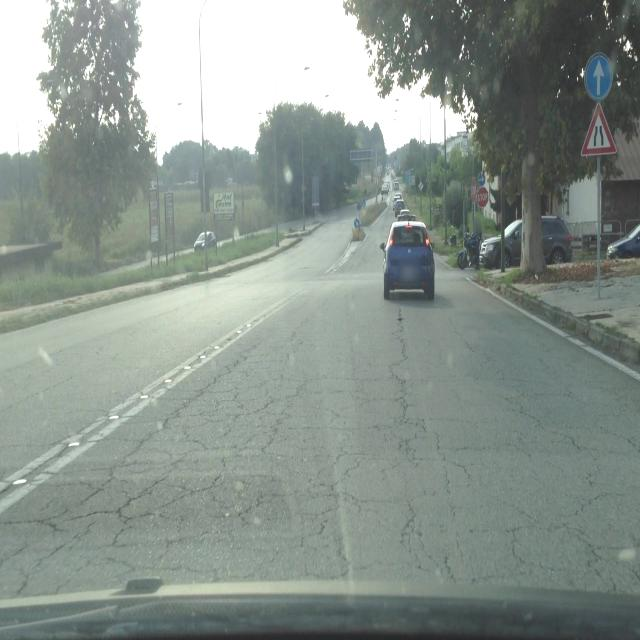car: (480, 213, 572, 270), (382, 220, 436, 300), (605, 223, 640, 259), (193, 230, 217, 252), (398, 209, 413, 221), (393, 194, 404, 207), (381, 181, 390, 194)
